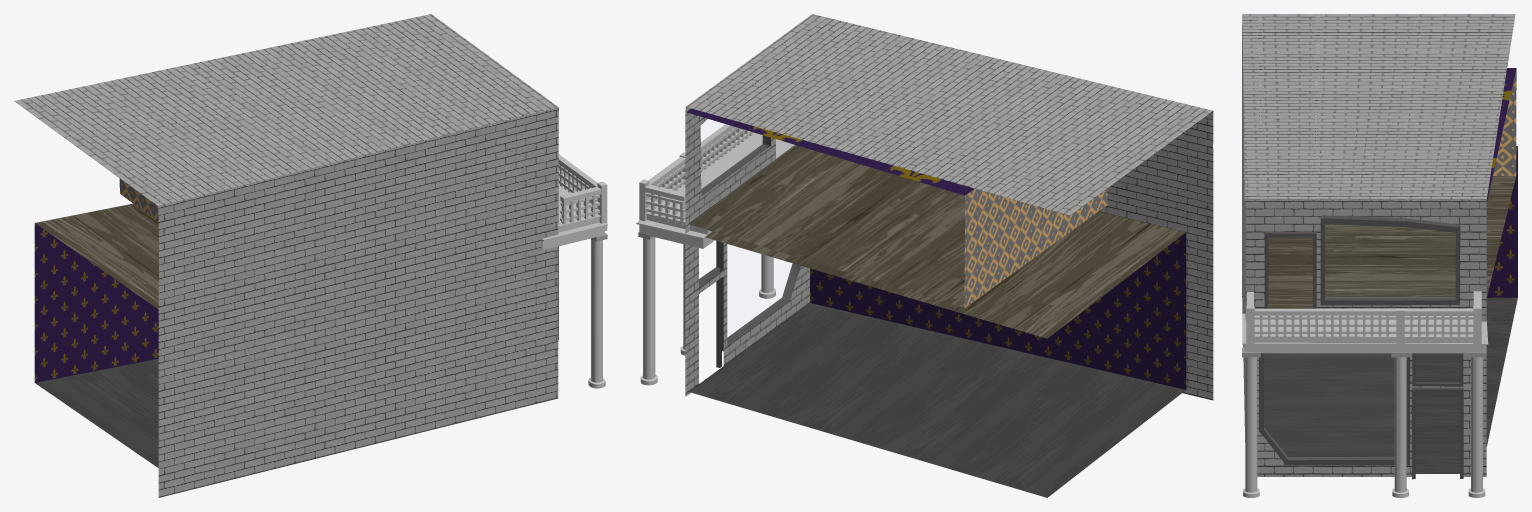
The model's file is Left Building old.fbx.
The picture shows the model from 3 angles, left to right: view 1: azimuth 30°, elevation 25°; view 2: azimuth 150°, elevation 25°; view 3: azimuth 270°, elevation 25°; orthographic projection. The views are drawn at different scales.
Visible parts, largest first — view 1: Pastry_Building_Front, Floor_1_Bottom_Rm, Floor_2_Top_Rm; view 2: Pastry_Building_Front, Floor_1_Bottom_Rm, Floor_2_Top_Rm; view 3: Pastry_Building_Front, Floor_1_Bottom_Rm, Floor_2_Top_Rm.
Boxes of the visible parts, <box> form: Pastry_Building_Front: <box>14,14,607,497</box>; Floor_1_Bottom_Rm: <box>34,203,158,467</box>; Floor_2_Top_Rm: <box>119,178,158,221</box>; Pastry_Building_Front: <box>636,14,1213,400</box>; Floor_1_Bottom_Rm: <box>689,211,1186,497</box>; Floor_2_Top_Rm: <box>686,108,1107,308</box>; Pastry_Building_Front: <box>1242,14,1515,497</box>; Floor_1_Bottom_Rm: <box>1264,146,1517,473</box>; Floor_2_Top_Rm: <box>1268,68,1516,308</box>.
Bounding box in the file's own units: 62.51 × 38.58 × 34.87.
